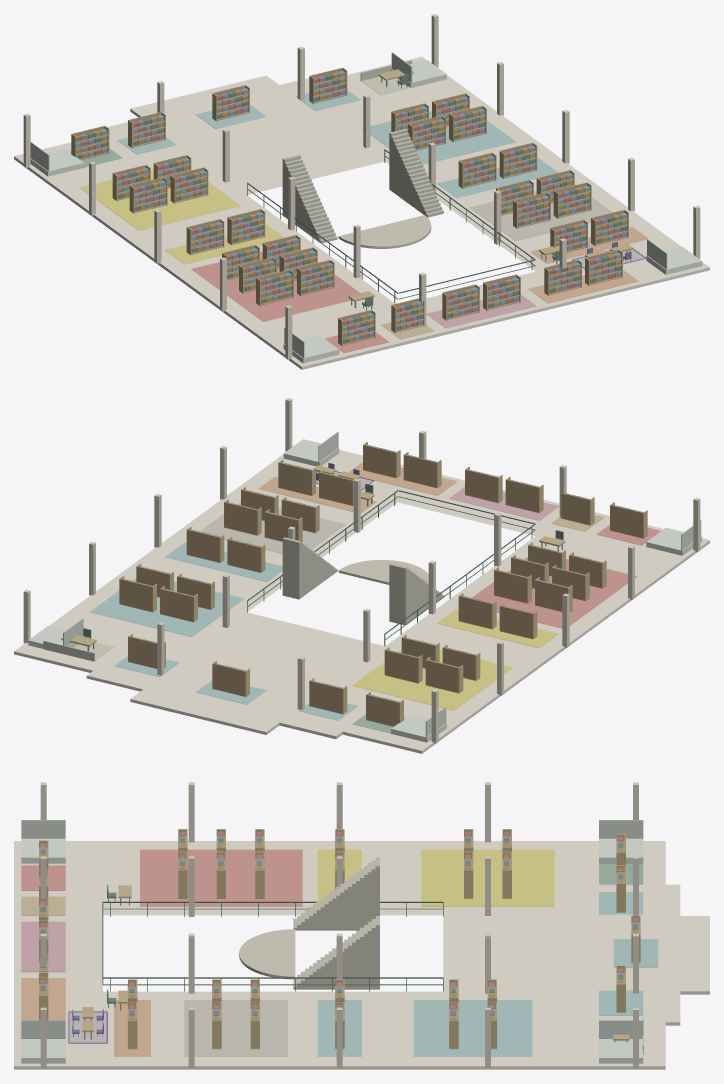
File: 图书馆_4楼_试点常态.glb
3 views of the same model, one above another, from view 1: azimuth 30°, elevation 25°; view 2: azimuth 150°, elevation 25°; view 3: azimuth 270°, elevation 25° (orthographic). The views are drawn at different scales.
Parts seen in each view (by area): view 1: guide_outline_floor_slab, guide_function_tint (×10), corner_service_room (×4), photo_guided_curved_landing; view 2: guide_outline_floor_slab, rack_back (×34), guide_function_tint (×10), corner_service_room (×3), central_stair_tread (×2), photo_guided_curved_landing; view 3: guide_outline_floor_slab, guide_function_tint (×15), corner_service_room (×4), service_partition (×4), photo_guided_curved_landing, atrium_rail_top (×2), atrium_rail_lower (×2), proposed_candidate_zone.
Part boxes in pixels (<box>): guide_outline_floor_slab: <box>14,56,709,369</box>; guide_function_tint (×10): <box>80,105,648,328</box>; corner_service_room (×4): <box>30,60,702,363</box>; photo_guided_curved_landing: <box>338,215,431,248</box>; guide_outline_floor_slab: <box>14,450,709,753</box>; rack_back (×34): <box>119,444,643,726</box>; guide_function_tint (×10): <box>90,462,636,710</box>; corner_service_room (×3): <box>283,439,702,742</box>; central_stair_tread (×2): <box>282,537,407,625</box>; photo_guided_curved_landing: <box>338,560,428,584</box>; guide_outline_floor_slab: <box>14,841,709,1069</box>; guide_function_tint (×15): <box>21,849,658,1056</box>; corner_service_room (×4): <box>21,838,643,1063</box>; service_partition (×4): <box>21,820,643,1038</box>; photo_guided_curved_landing: <box>239,929,295,979</box>; atrium_rail_top (×2): <box>103,901,443,978</box>; atrium_rail_lower (×2): <box>103,908,442,985</box>; proposed_candidate_zone: <box>69,1012,106,1042</box>.
Size of the model in its own units: 36.4 by 4.9 by 47.
